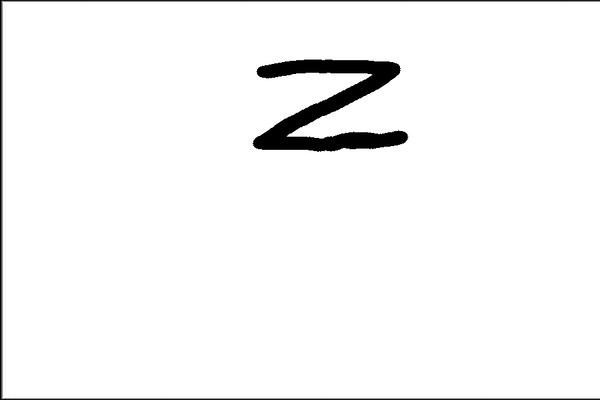Z: (244, 49, 423, 158)
